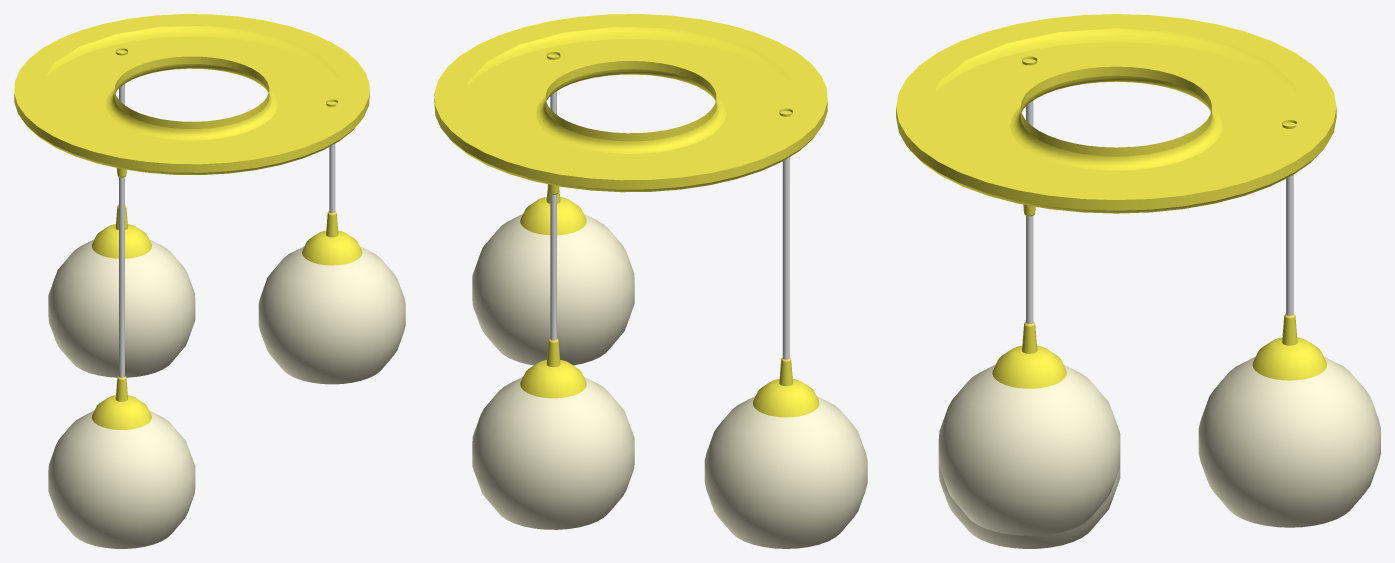
The model's file is Lamp_Ceiling.glb.
3 views of the same model, side by side, from view 1: azimuth 30°, elevation 25°; view 2: azimuth 150°, elevation 25°; view 3: azimuth 270°, elevation 25° (orthographic). The views are drawn at different scales.
Parts seen in each view (by area): view 1: Lamp; view 2: Lamp; view 3: Lamp.
Part boxes in pixels (x1,y1,x2,y2): Lamp: [14, 14, 405, 548]; Lamp: [434, 14, 867, 548]; Lamp: [896, 14, 1380, 548].
Bounding box in the file's own units: 0.5232 × 0.5722 × 0.526.
4 materials, 2 textured.
